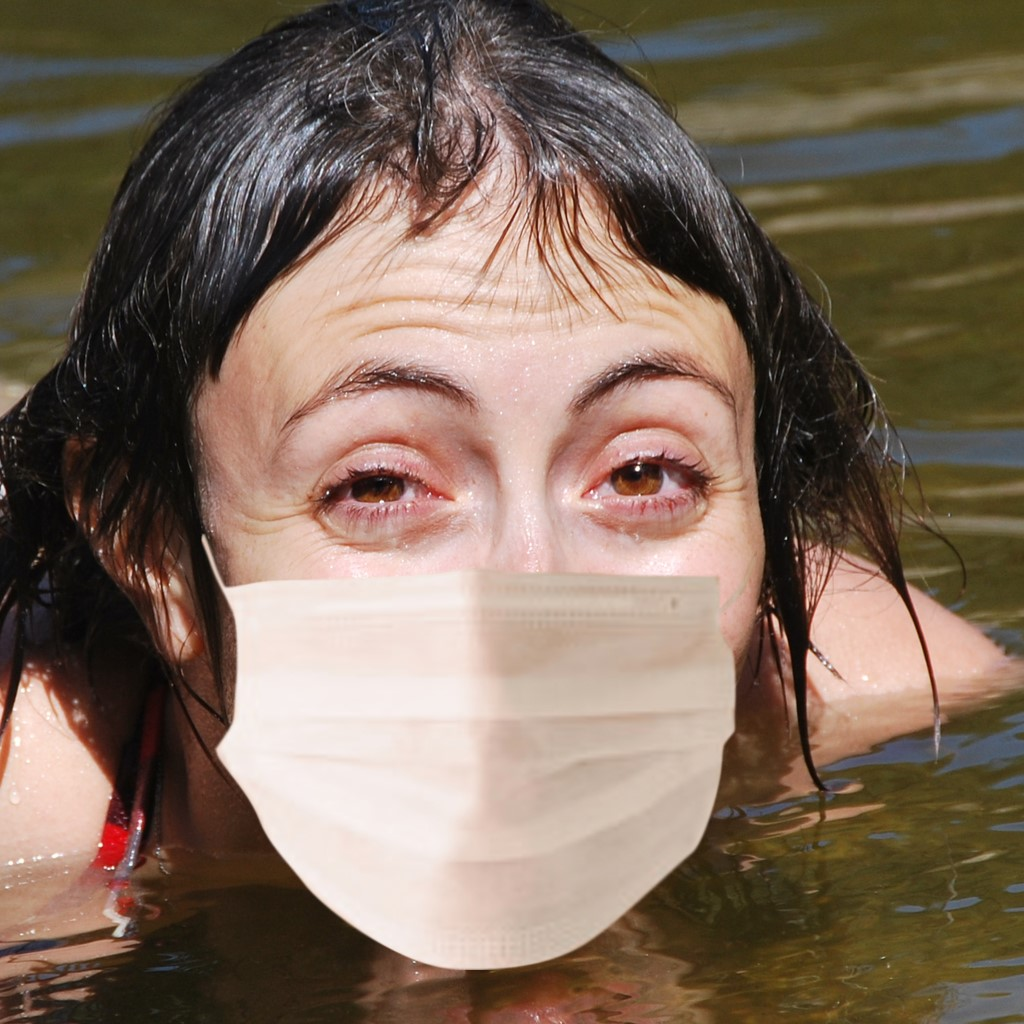con_mascara: (116, 139, 770, 964)
